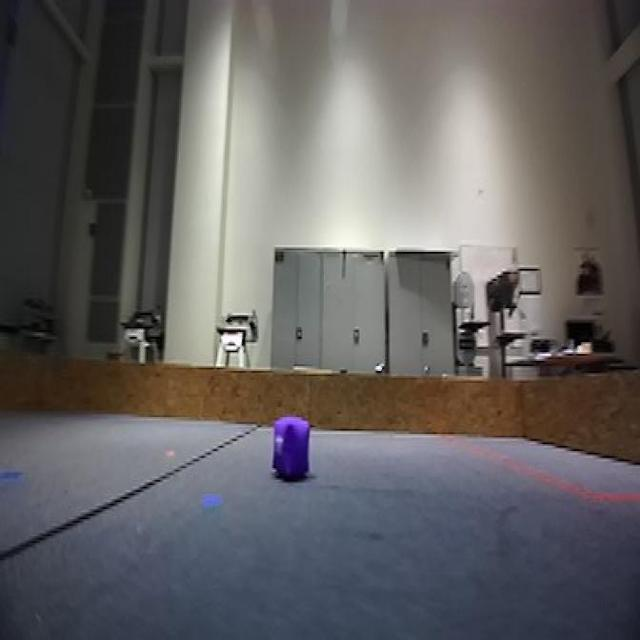frc_cube: (272, 417, 312, 485)
